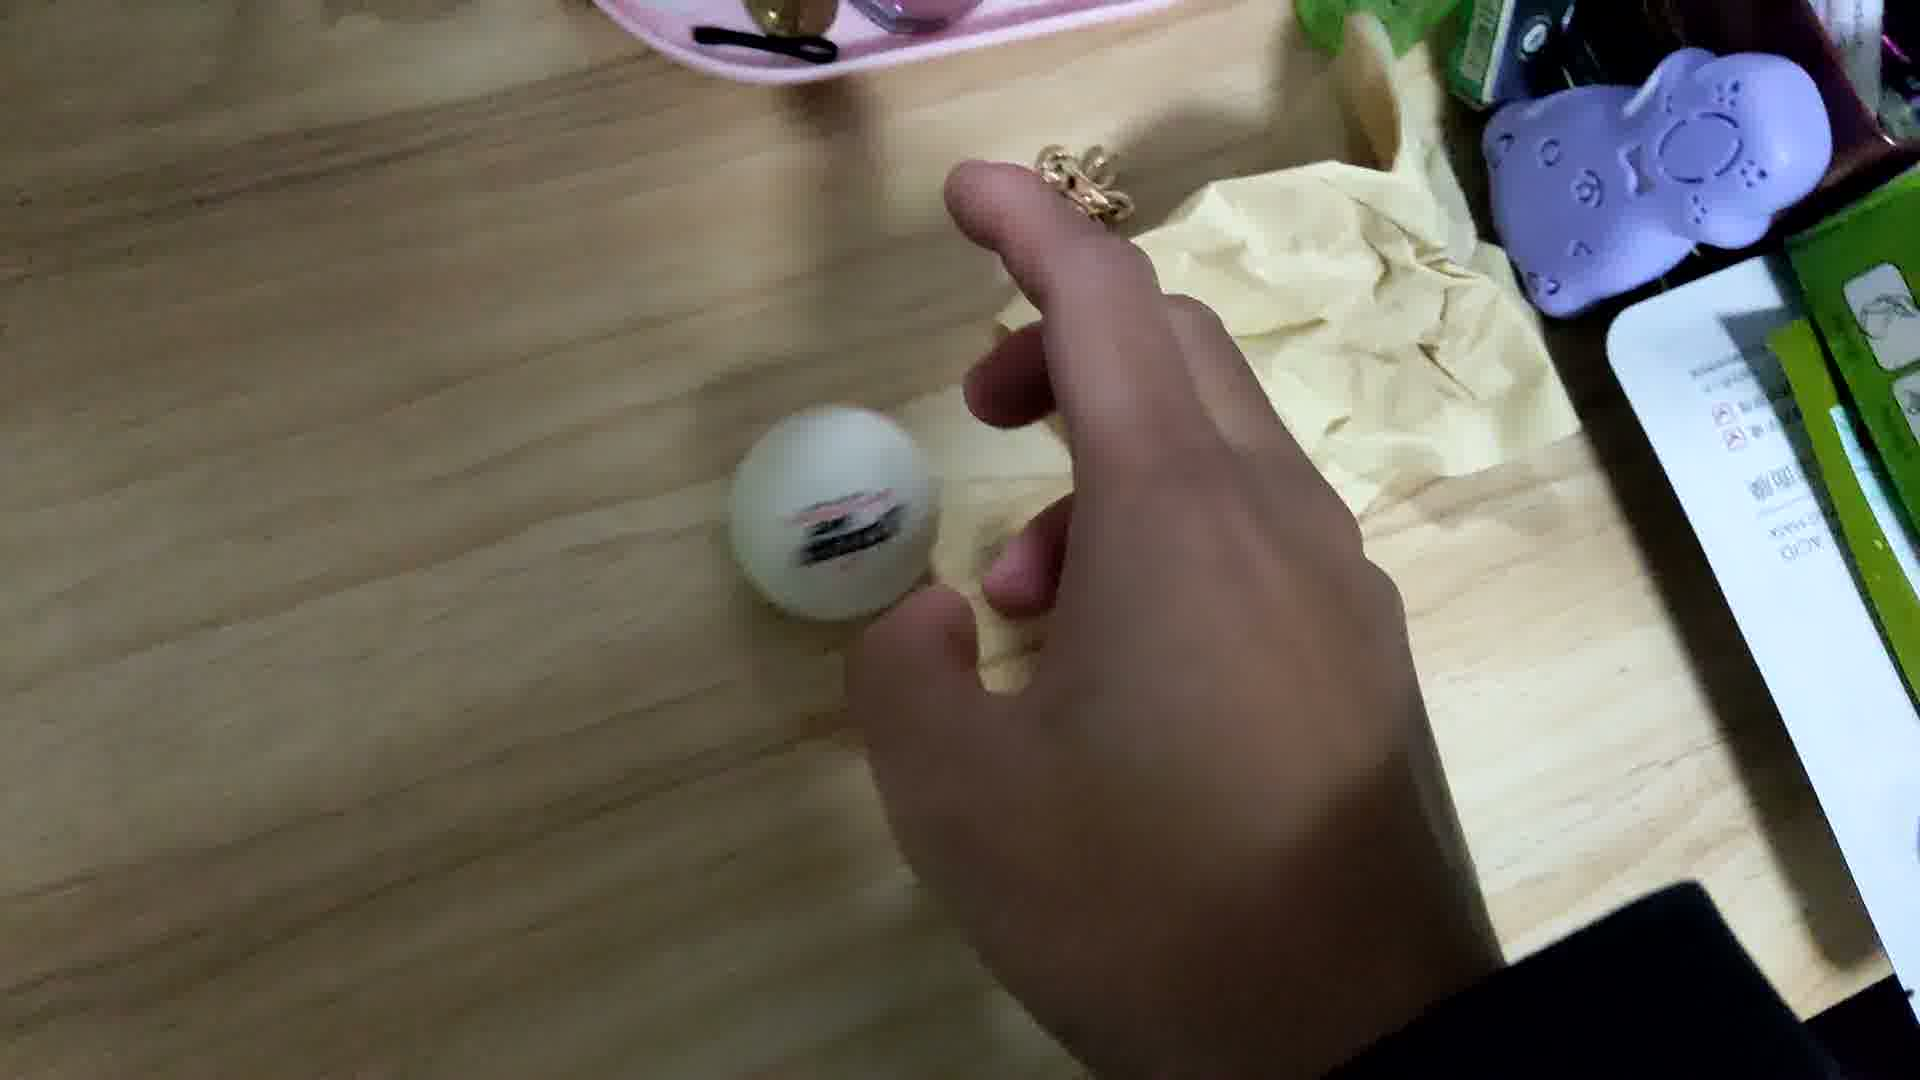Ball: (733, 404, 938, 616)
